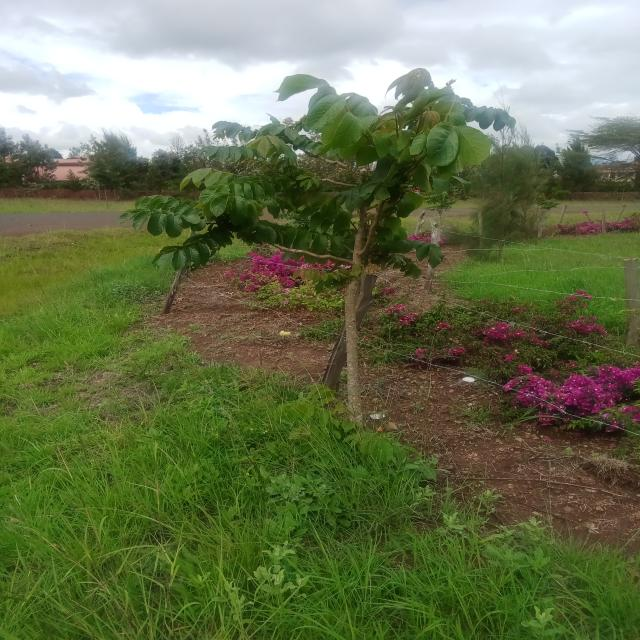Polyscias Kikuyensis: (118, 53, 549, 435)
